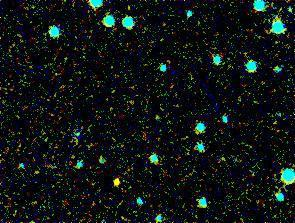star: (105, 171, 135, 201)
